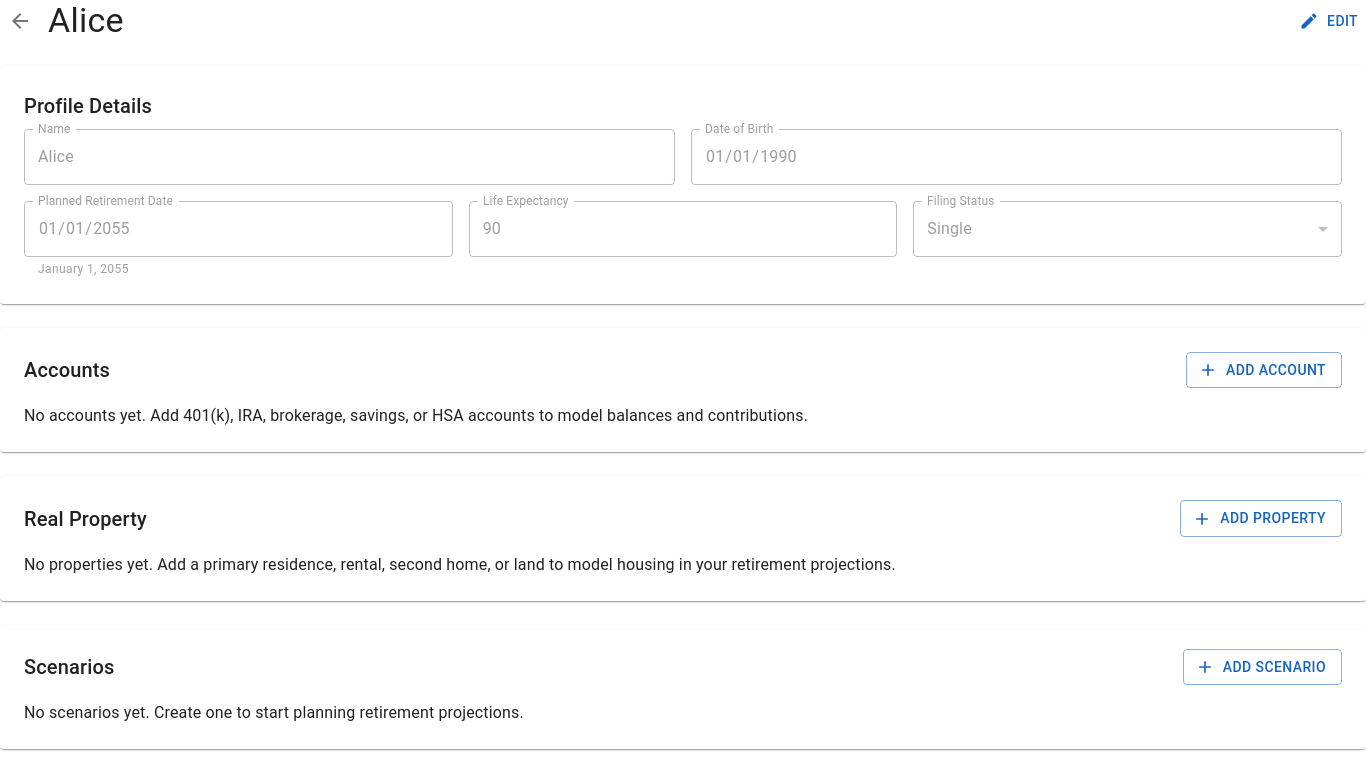
Scenario: ProfileDetailPage › hides annual contribution field for non-contribution account types
The image size is (1366, 768).
Click the button "Add Account" at point(1264, 370), box [1186,352,1342,388]
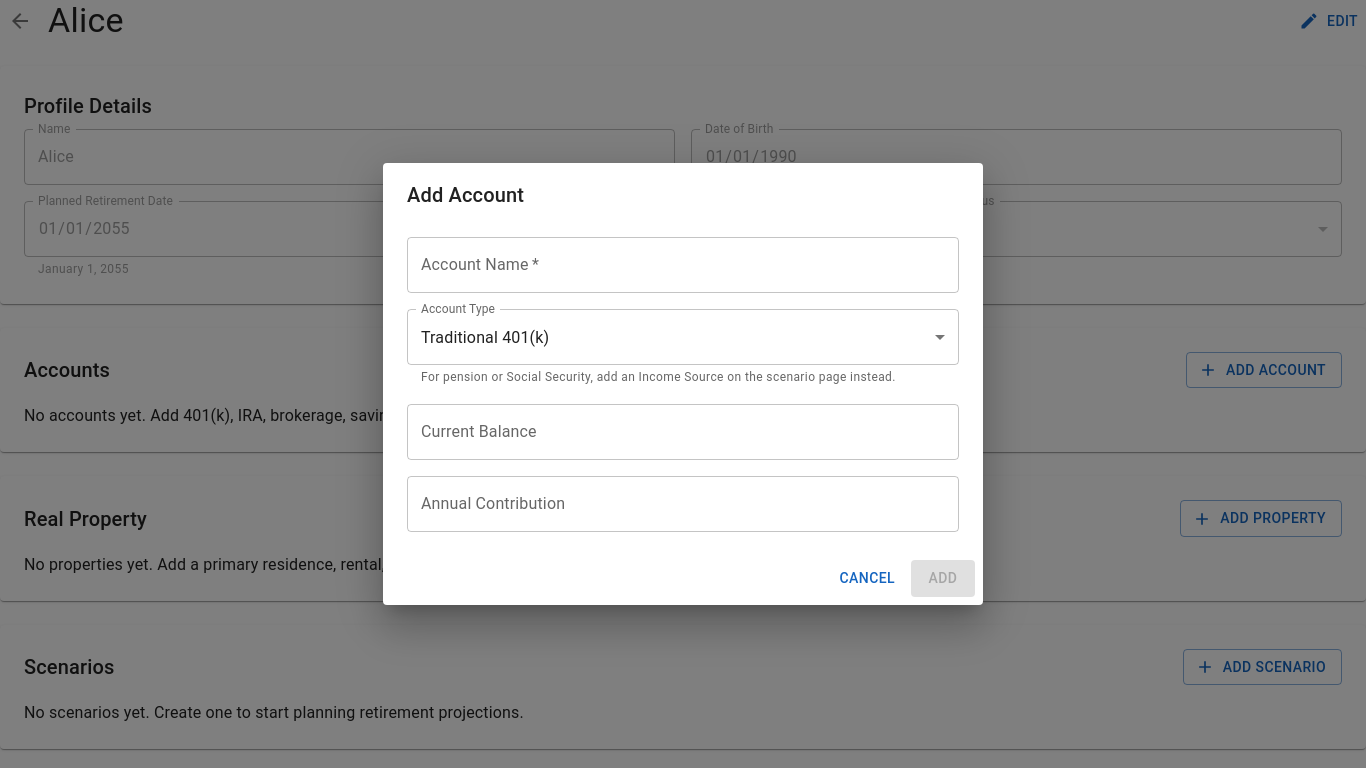
Click the dropdown named "account type" at point(485, 337), box [421,328,549,347]
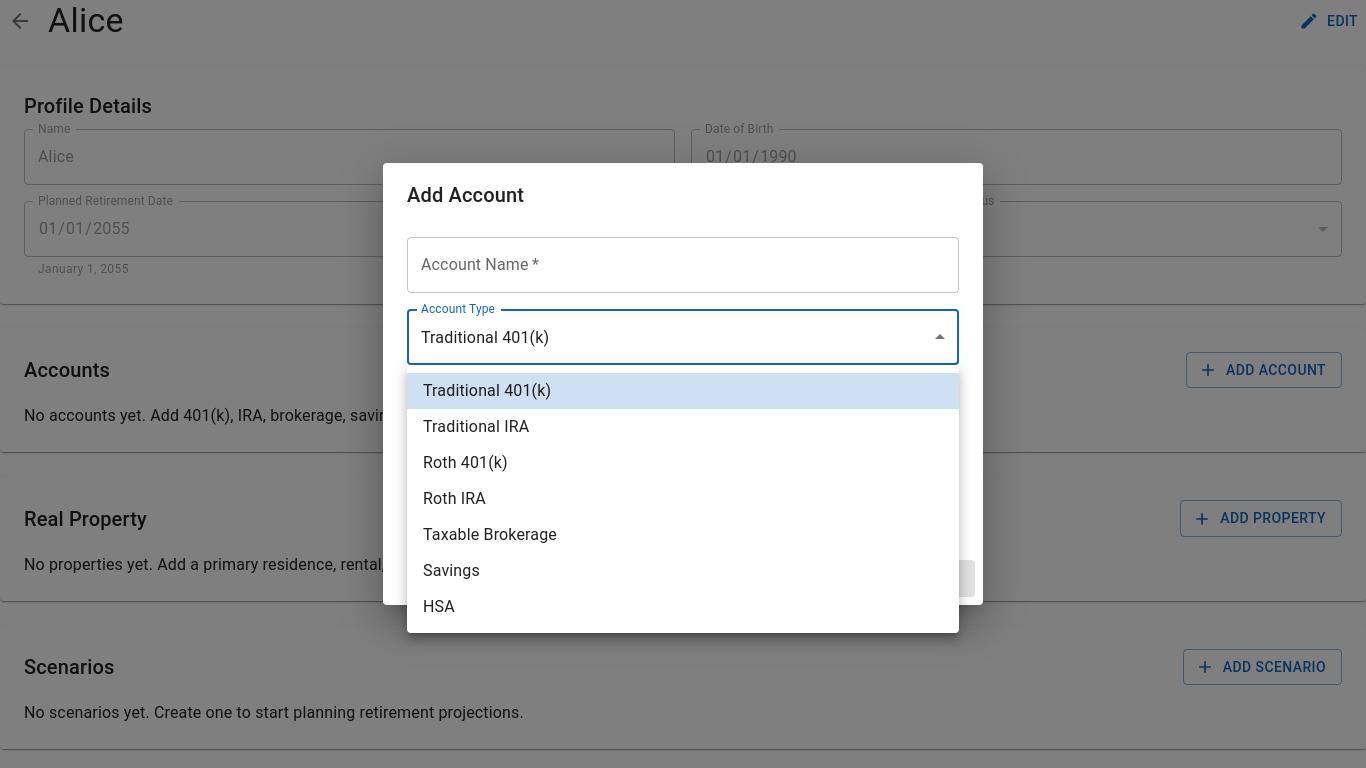
Click the option "Taxable Brokerage" at point(490, 534), box [423,525,557,544]
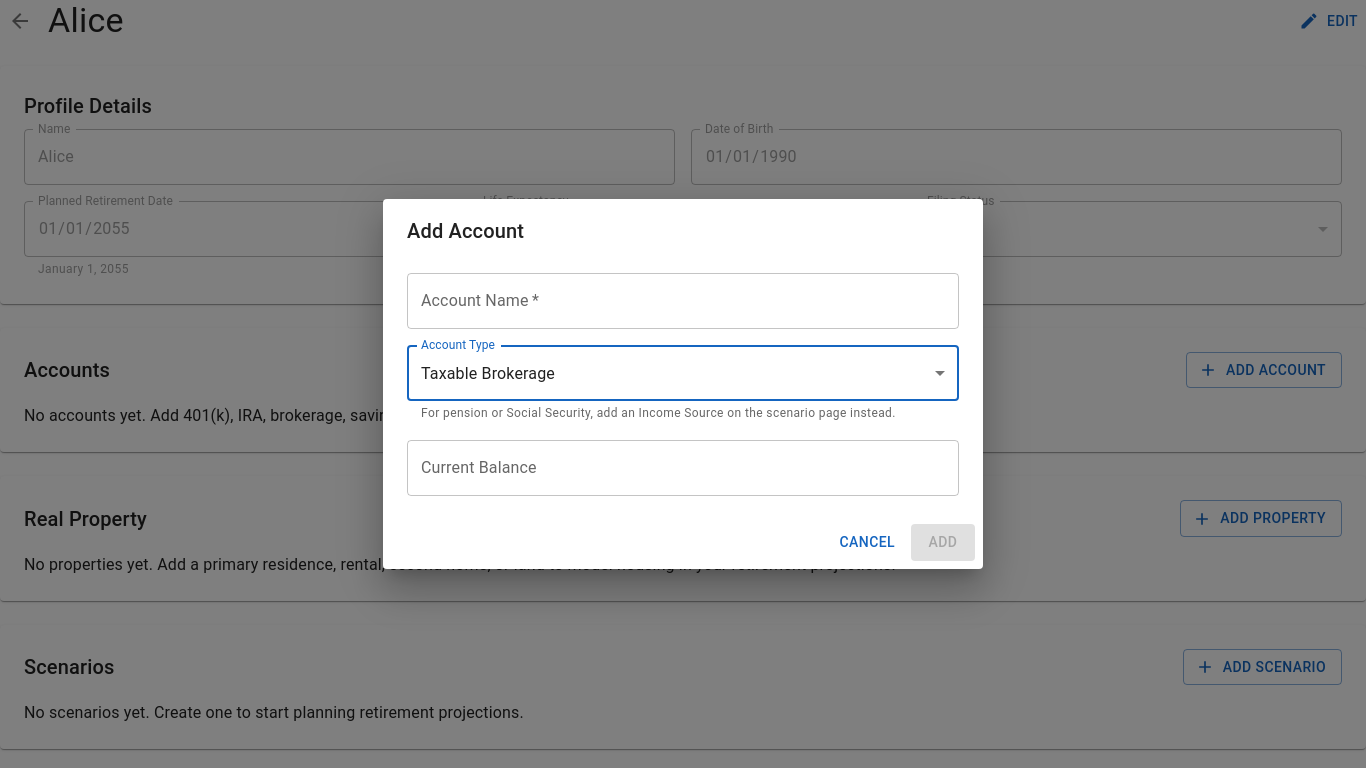
Now the label "Annual Contribution" is gone
